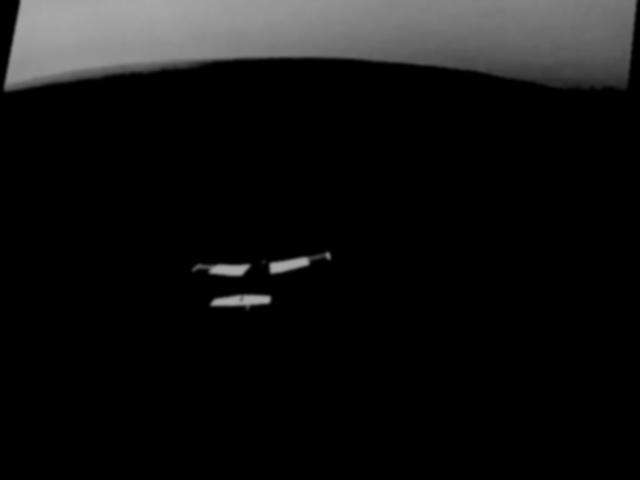hedef: (179, 235, 347, 345)
